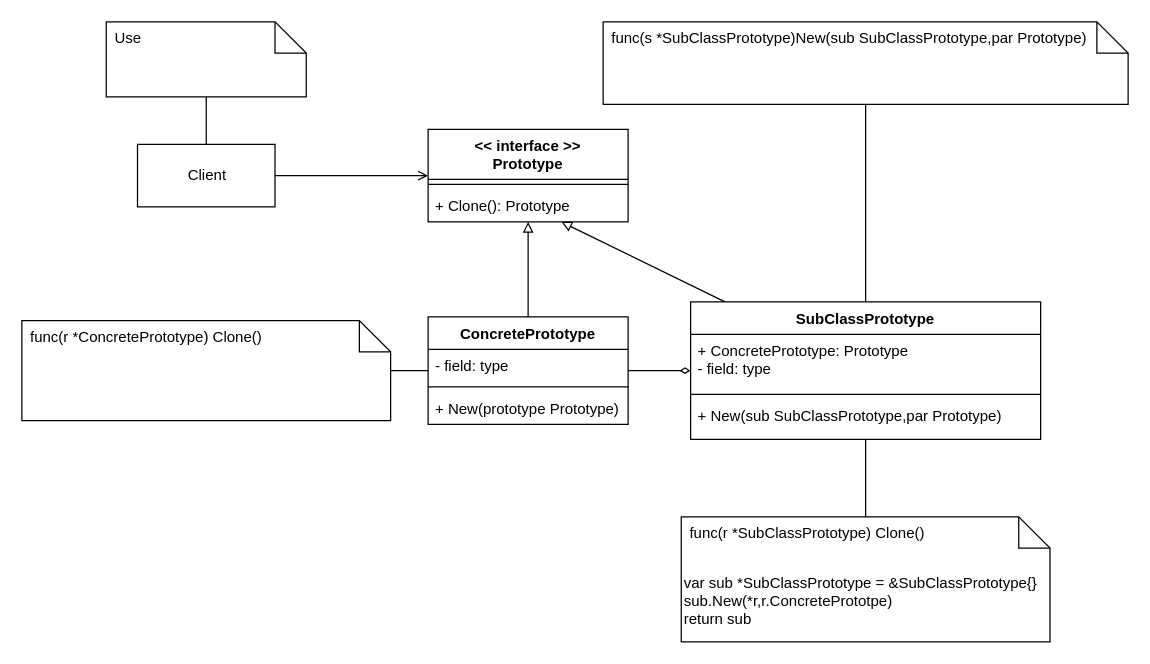
The diagram is 1150 pixels wide and 664 high, and some of its shapes have lost their labels. The centre of each missing label's shape, as x and y in pixels:
copy := prototypeObj.Clone(): [205,59]
s.field = sub.field s.ConcretePrototype = par.Clone(): [865,62]
var proto *ConcretePrototype = &ConcretePrototype{} proto.New(r) return proto: [206,370]
